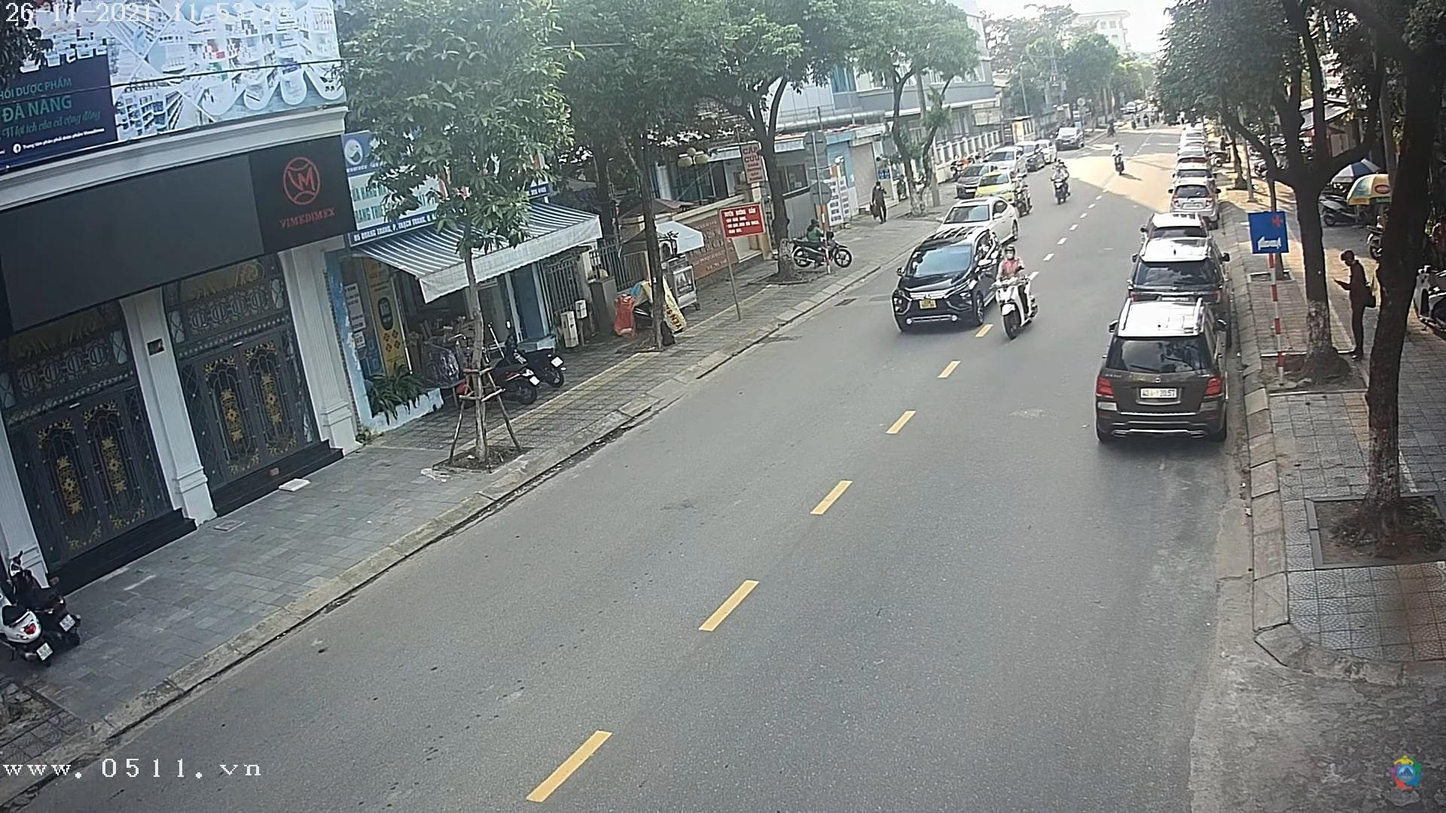car: (1096, 306, 1226, 444), (892, 230, 1008, 336), (1130, 235, 1224, 302), (1169, 186, 1213, 214), (1057, 126, 1088, 149)
motorbike: (989, 273, 1038, 339)
